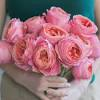rose: (14, 23, 89, 65)
